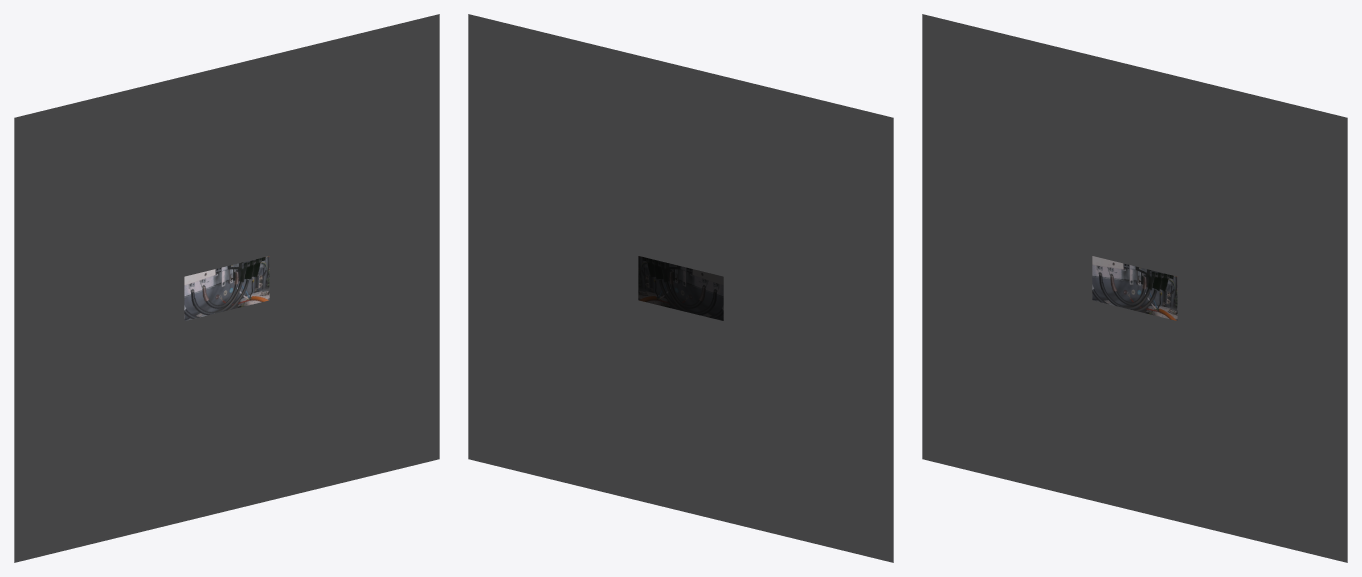
The model's file is wiring-02-final.glb.
3 views of the same model, side by side, from view 1: azimuth 30°, elevation 25°; view 2: azimuth 150°, elevation 25°; view 3: azimuth 330°, elevation 25° (orthographic).
Parts seen in each view (by area): view 1: background, wiring-02; view 2: background, wiring-02; view 3: background, wiring-02.
Part boxes in pixels (x1=…): background: x1=14, y1=14, x2=439, y2=562; wiring-02: x1=184, y1=256, x2=269, y2=320; background: x1=468, y1=14, x2=893, y2=562; wiring-02: x1=638, y1=256, x2=723, y2=320; background: x1=922, y1=14, x2=1347, y2=562; wiring-02: x1=1092, y1=256, x2=1177, y2=320.
Bounding box in the file's own units: 10 × 10 × 0.001.
Materials: 2 (1 with a texture image).
